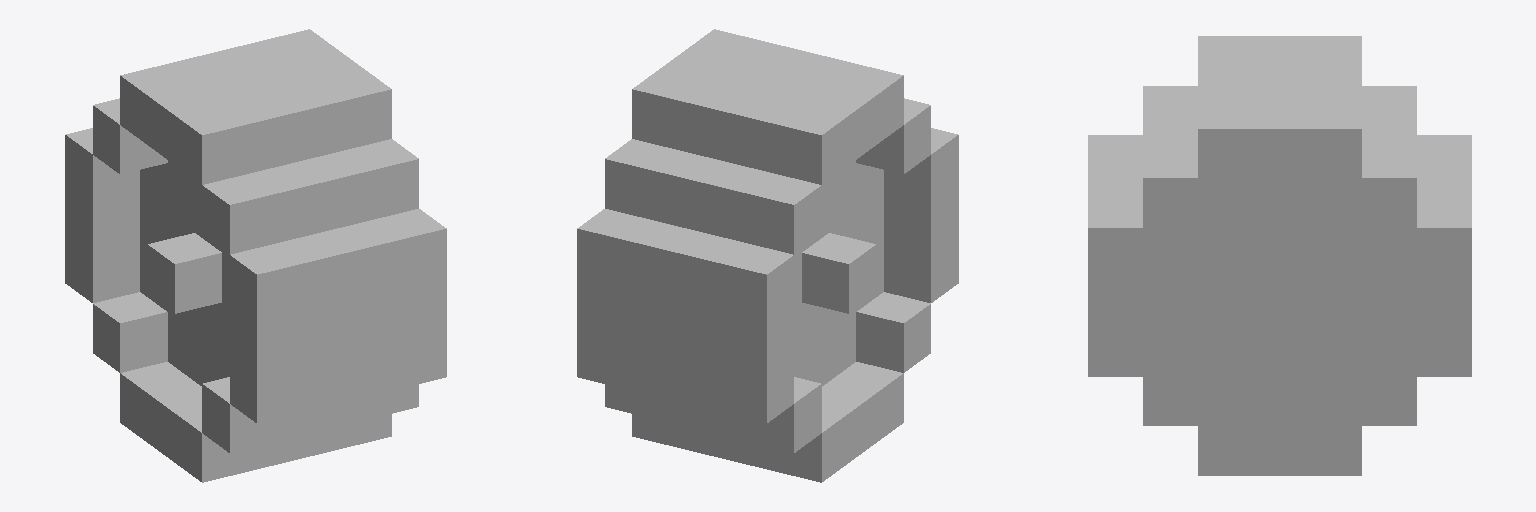
Rendered from Tank-1.obj.
3 views of the same model, side by side, from view 1: azimuth 30°, elevation 25°; view 2: azimuth 150°, elevation 25°; view 3: azimuth 270°, elevation 25° (orthographic).
Visible parts, largest first — view 1: object 1; view 2: object 1; view 3: object 1.
Part boxes in pixels (bbox=[...]): object 1: bbox=[65, 29, 446, 482]; object 1: bbox=[577, 29, 958, 482]; object 1: bbox=[1088, 36, 1471, 475].
Size of the model in its own units: 0.4 by 0.7 by 0.7.